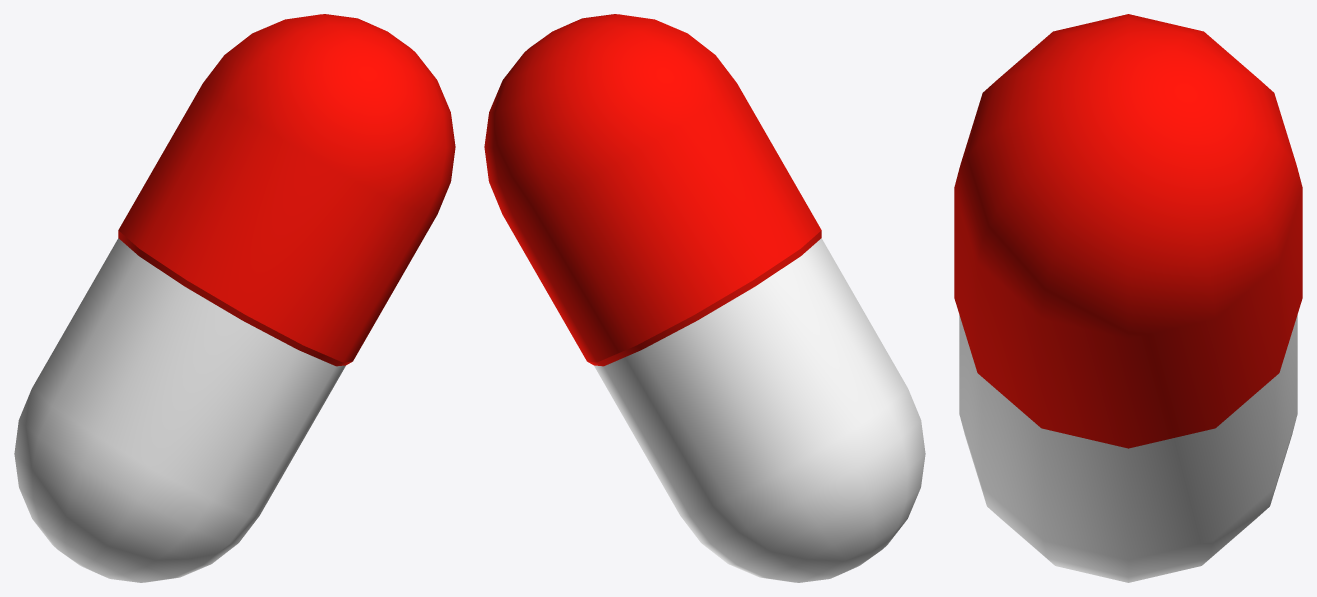
Rendered from ge_mission_capsule.max.fbx.
3 renders of one model, left to right at view 1: azimuth 30°, elevation 25°; view 2: azimuth 150°, elevation 25°; view 3: azimuth 270°, elevation 25°, orthographic. The views are drawn at different scales.
Parts seen in each view (by area): view 1: ge_mission_capsule; view 2: ge_mission_capsule; view 3: ge_mission_capsule.
Part boxes in pixels (left/top/right/bottom): ge_mission_capsule: left=14, top=14, right=455, bottom=582; ge_mission_capsule: left=484, top=14, right=925, bottom=582; ge_mission_capsule: left=954, top=14, right=1302, bottom=582.
Bounding box in the file's own units: 0.3141 × 0.3719 × 0.1822.
